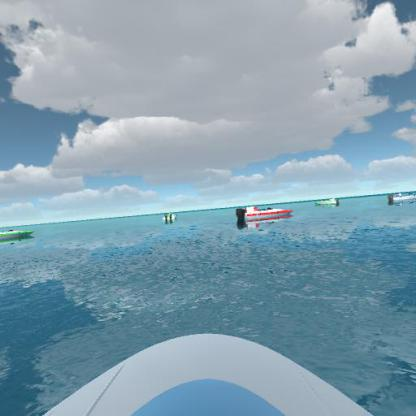usv0: (1, 220, 35, 246), (310, 195, 343, 210), (157, 207, 182, 226)
usv1: (385, 189, 415, 207)
usv3: (233, 204, 297, 228)
